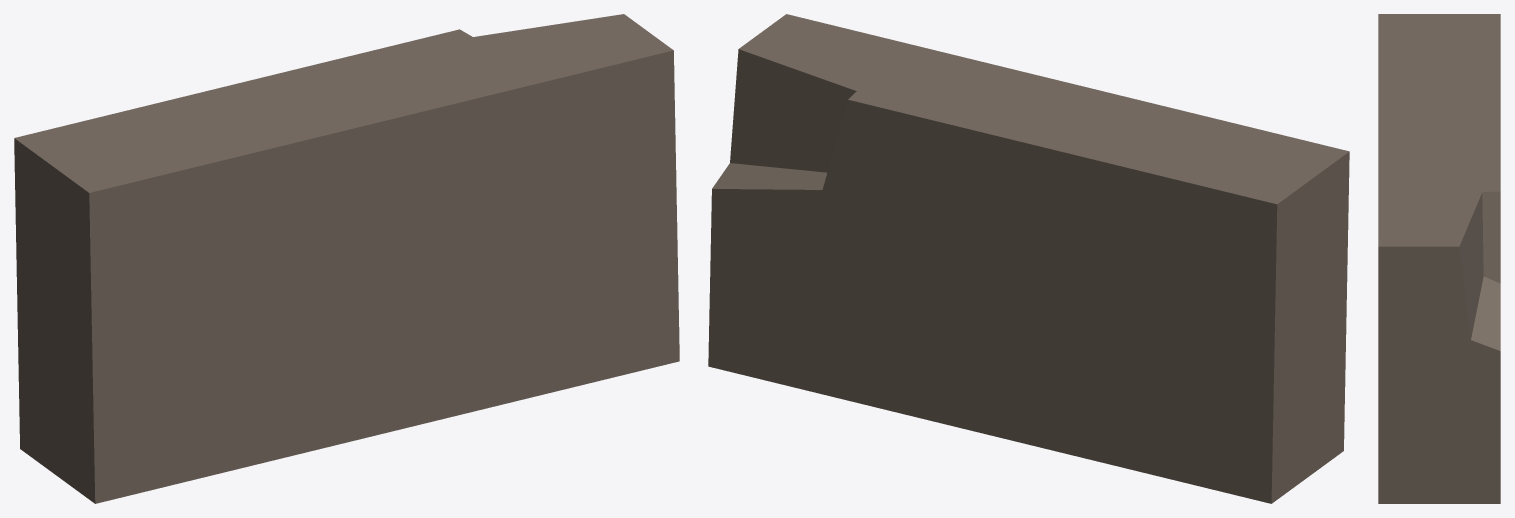
Rendered from wallsmall2.fbx.
The picture shows the model from 3 angles, left to right: view 1: azimuth 30°, elevation 25°; view 2: azimuth 150°, elevation 25°; view 3: azimuth 270°, elevation 25°; orthographic projection. The views are drawn at different scales.
Parts seen in each view (by area): view 1: wallsmall2; view 2: wallsmall2; view 3: wallsmall2.
Part boxes in pixels (x1,y1,x2,y2): wallsmall2: (14, 14, 679, 503); wallsmall2: (708, 14, 1349, 503); wallsmall2: (1378, 14, 1500, 503).
Bounding box in the file's own units: 202 × 102 × 44.52.
